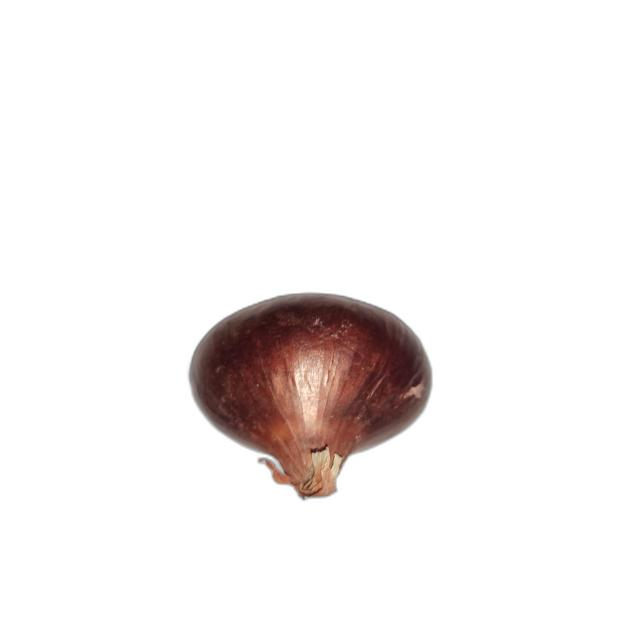onion: (186, 292, 434, 501)
